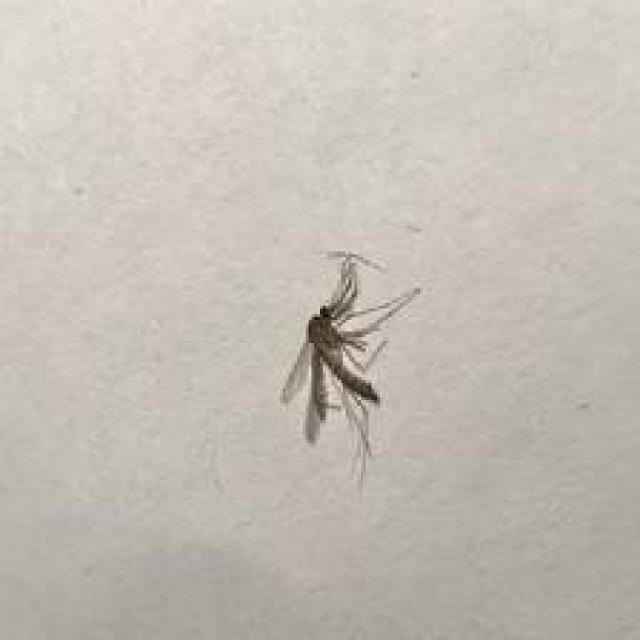Culex: (278, 248, 422, 492)
